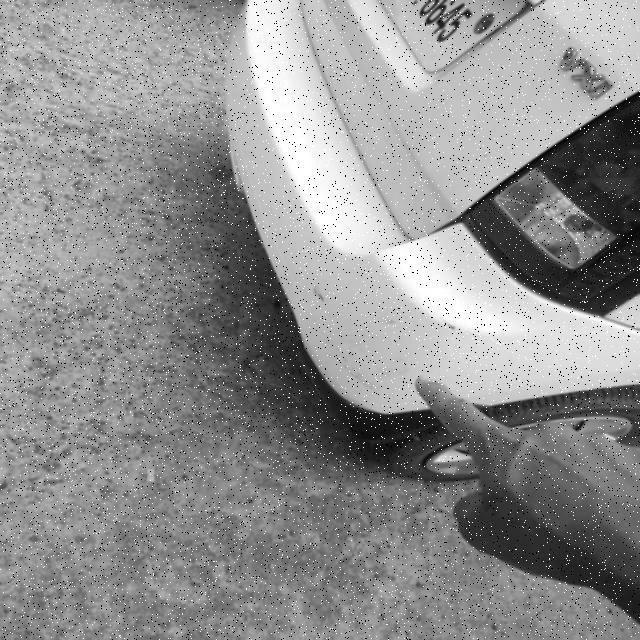rear-bumper-dent: (282, 244, 531, 447)
